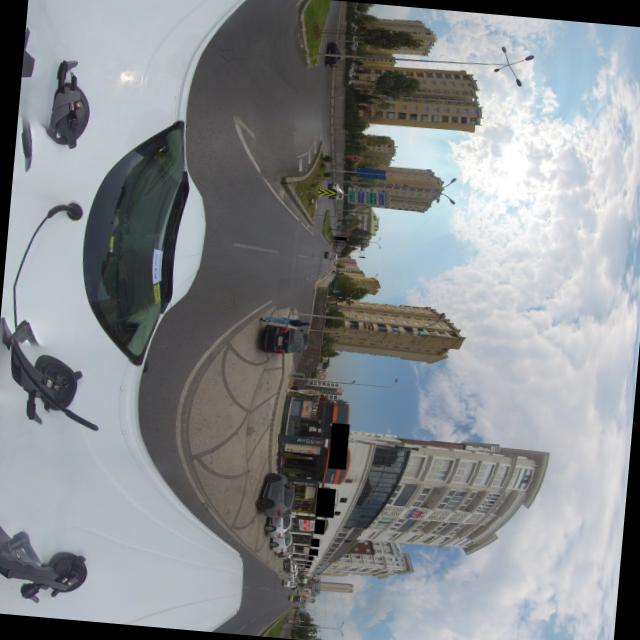SignStore: (327, 422, 348, 468), (314, 487, 334, 517), (313, 519, 324, 534), (309, 538, 318, 546), (307, 548, 317, 555), (334, 236, 345, 240), (307, 555, 312, 560), (306, 561, 310, 564), (304, 565, 308, 568)
